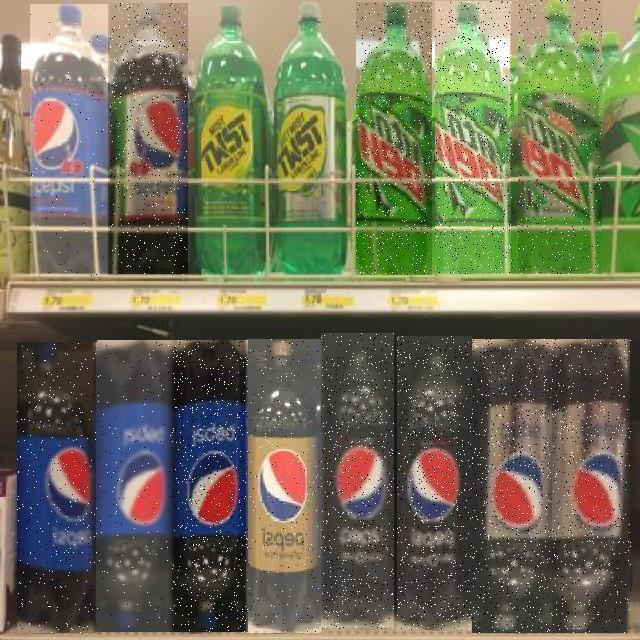Drinks: (552, 339, 632, 633), (473, 339, 553, 633), (18, 342, 98, 633), (518, 0, 602, 274), (247, 339, 323, 633), (172, 340, 248, 632), (98, 340, 174, 632), (397, 336, 472, 630), (321, 334, 394, 630), (436, 1, 514, 274), (30, 4, 108, 276), (110, 3, 188, 274), (356, 2, 432, 275)
